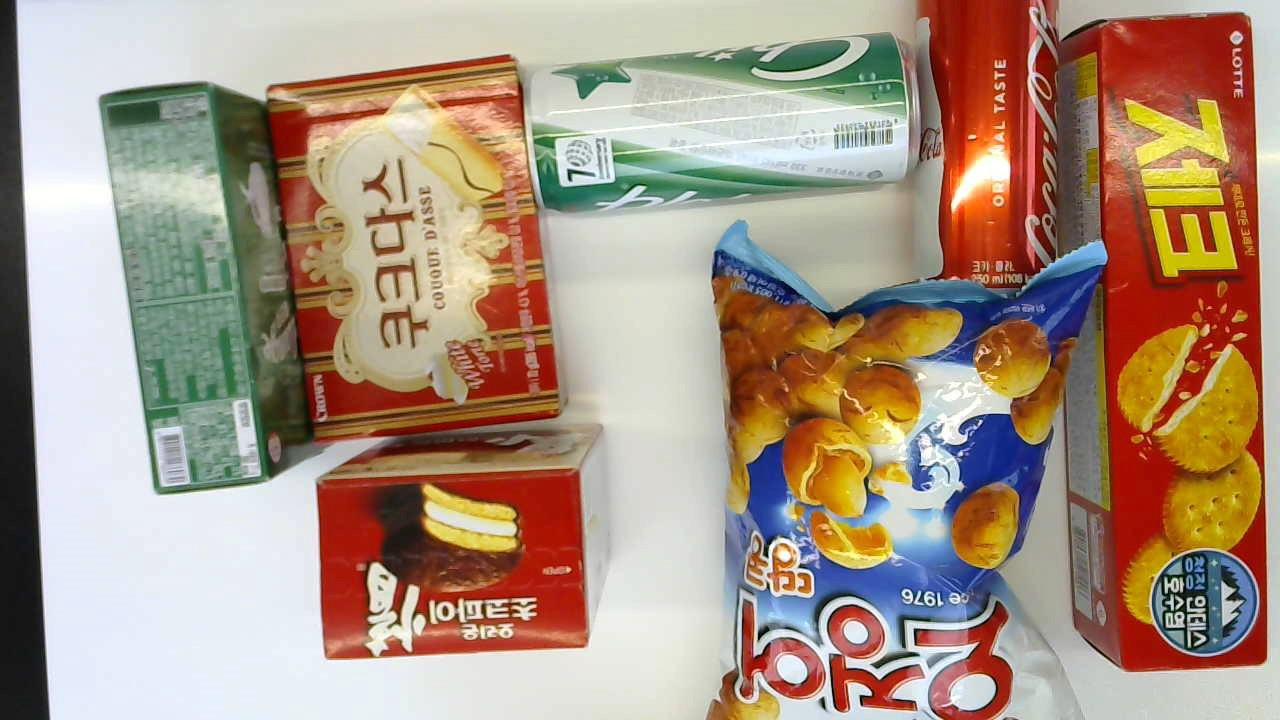chocopie: (315, 422, 615, 663)
cidar: (525, 30, 927, 213)
coke: (903, 0, 1061, 310)
couque_coffee: (97, 78, 327, 497)
couque_white: (264, 54, 562, 446)
squid_peanut: (689, 221, 1097, 720)
zec: (1065, 10, 1270, 672)
